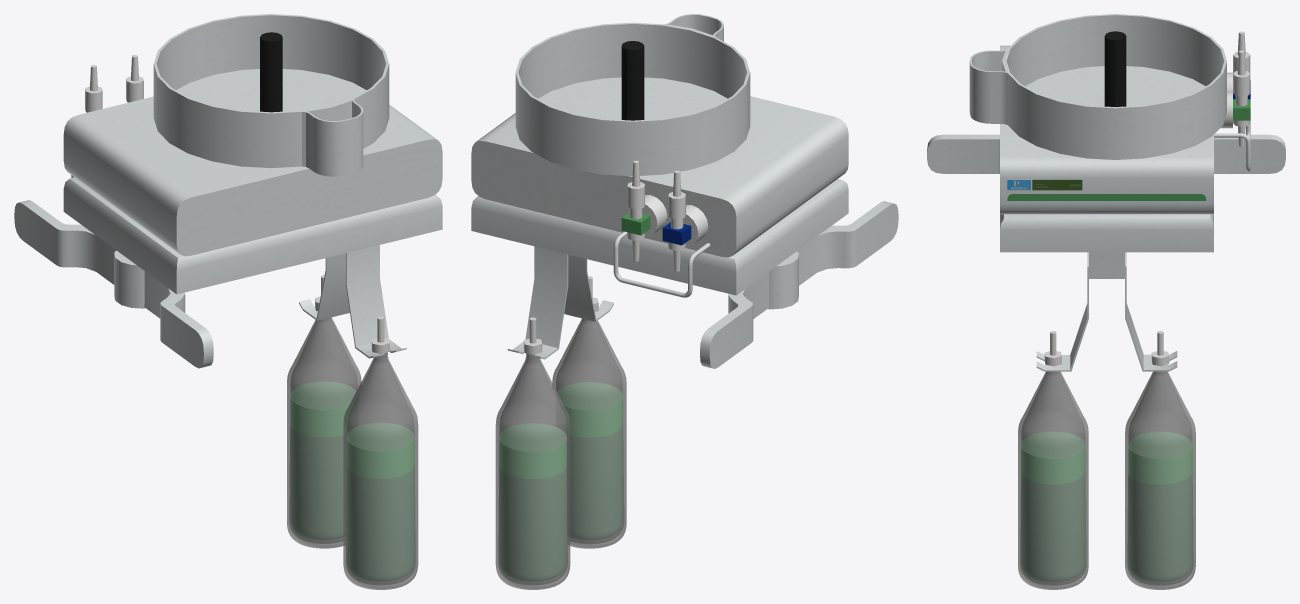
The model's file is SM_光谱仪_旋转02.FBX.
3 renders of one model, left to right at view 1: azimuth 30°, elevation 25°; view 2: azimuth 150°, elevation 25°; view 3: azimuth 270°, elevation 25°, orthographic. The views are drawn at different scales.
Parts seen in each view (by area): view 1: SM_光谱仪_旋转02; view 2: SM_光谱仪_旋转02; view 3: SM_光谱仪_旋转02.
Boxes of the visible parts, box(x1,y1,x2,y2) form: SM_光谱仪_旋转02: box(14, 14, 442, 589); SM_光谱仪_旋转02: box(471, 14, 898, 589); SM_光谱仪_旋转02: box(927, 14, 1285, 589).
Size of the model in its own units: 0.3824 by 0.7032 by 0.4515.
